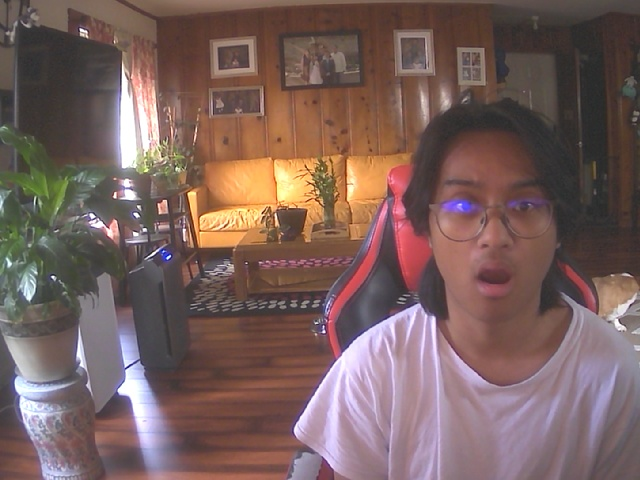fear: (424, 101, 569, 329)
